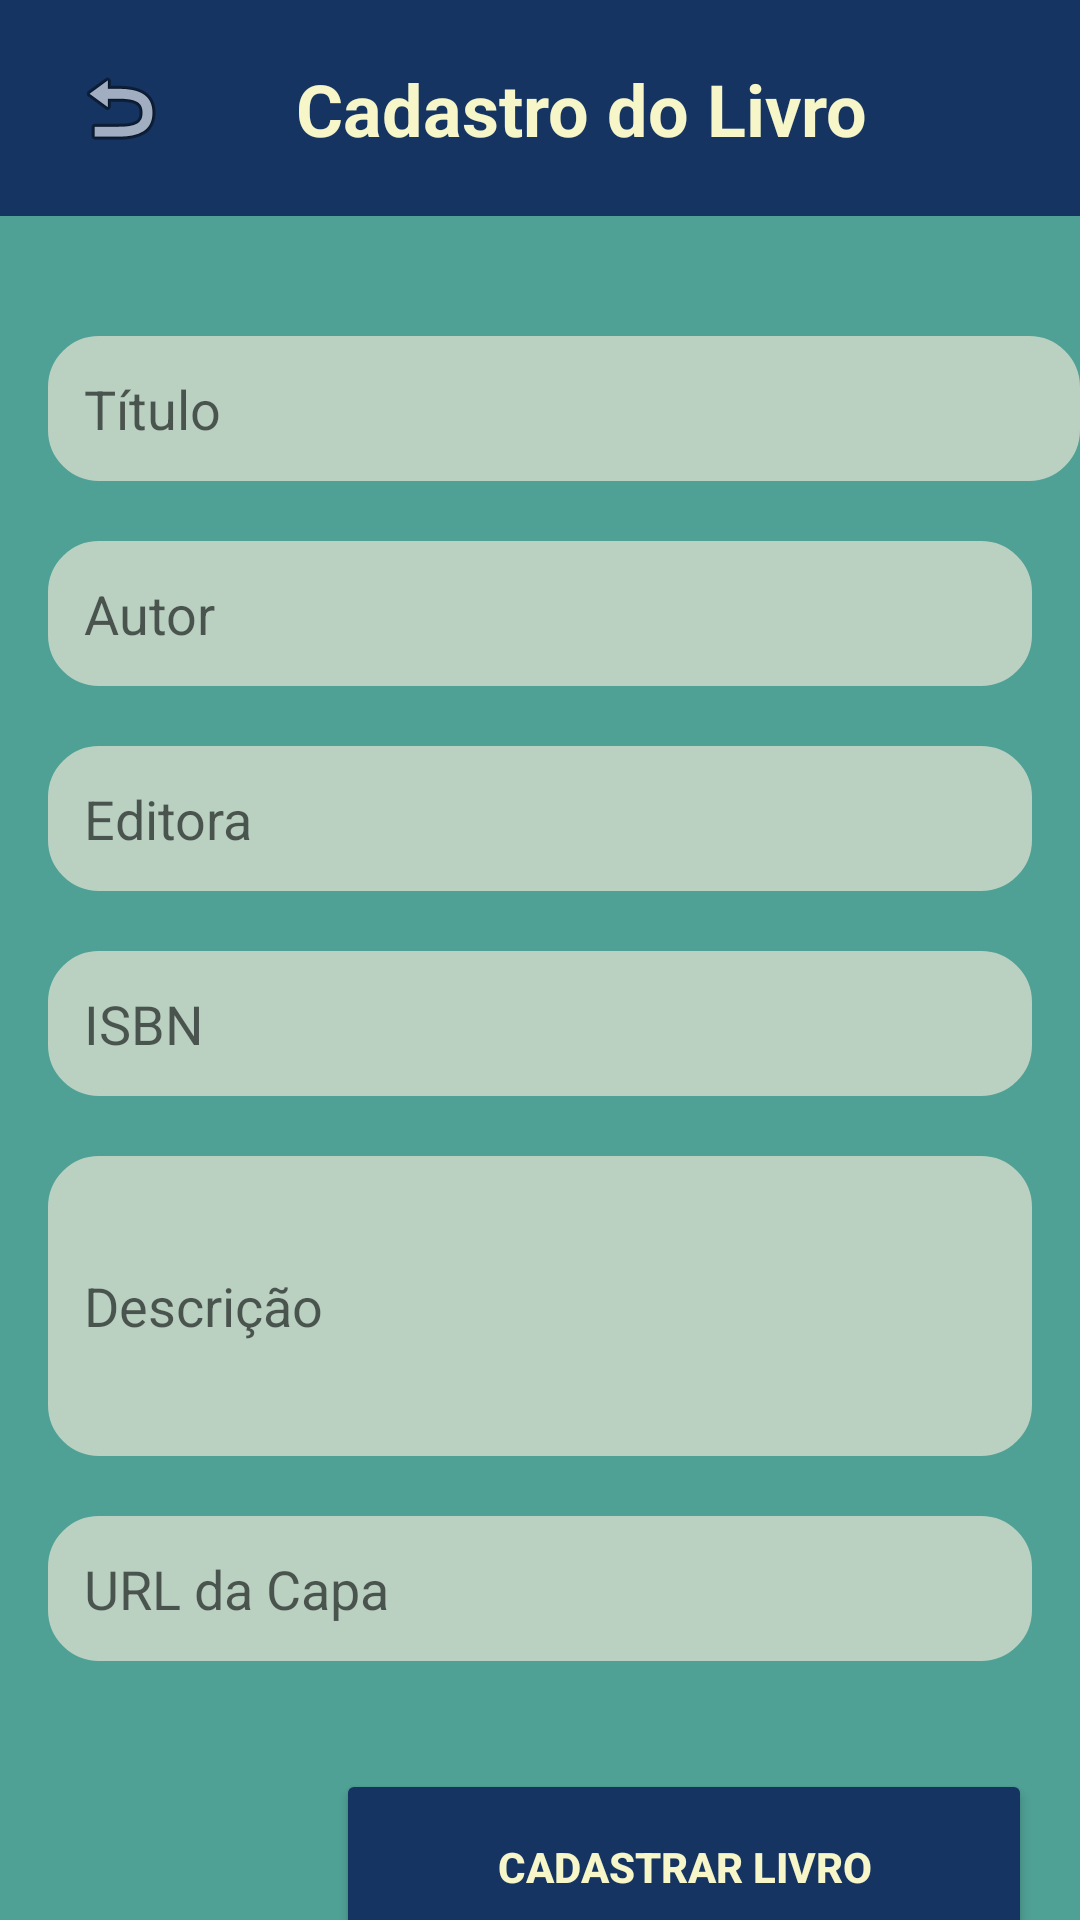

Where to tap for icons on this 1080x1920 app screen, as (x=x, y=y):
Voltar: (x=121, y=109)
